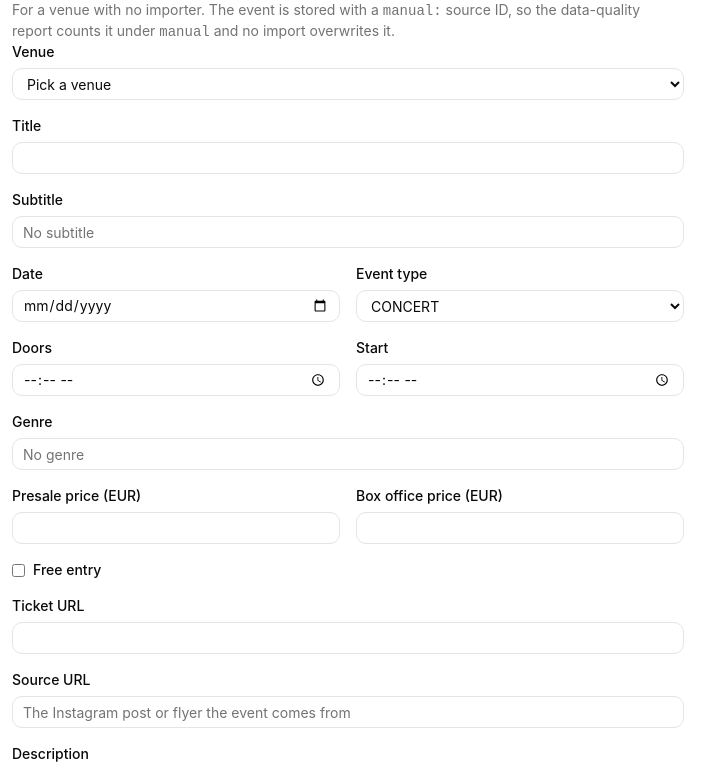
NewEventView › keeps the form when a save fails
This screenshot has width=701, height=768.
Select "Kulturhaus X" in the dropdown labelled "Venue": (348, 84) [12,68,684,100]
In the field labelled "Title": (348, 158) [12,142,684,174], type "Open Decks"
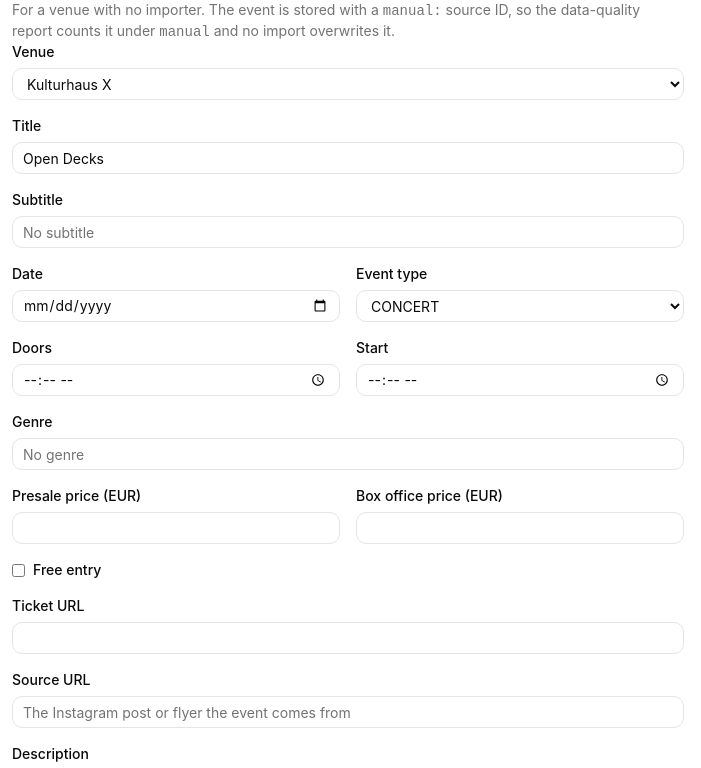
In the date field labelled "Date": (176, 306) [12,290,340,322], type "2026-11-14"
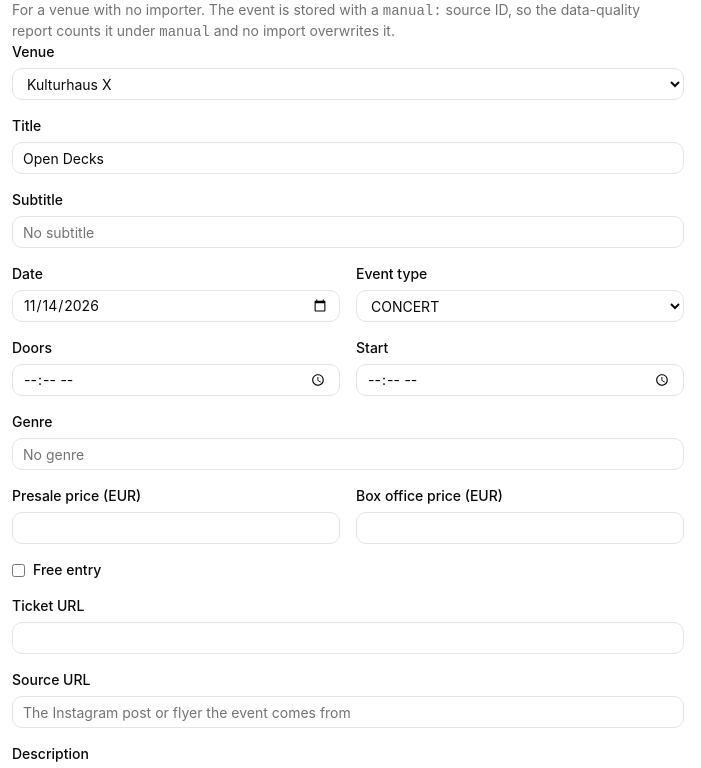
In the time field labelled "Start": (520, 380) [356,364,684,396], type "21:00"
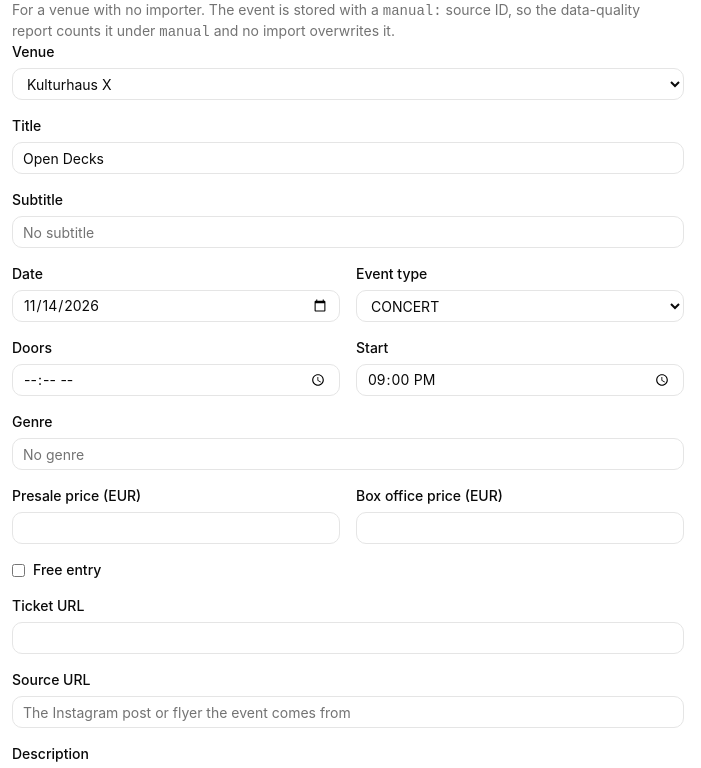
In the field labelled "Genre": (348, 454) [12,438,684,470], type "House"
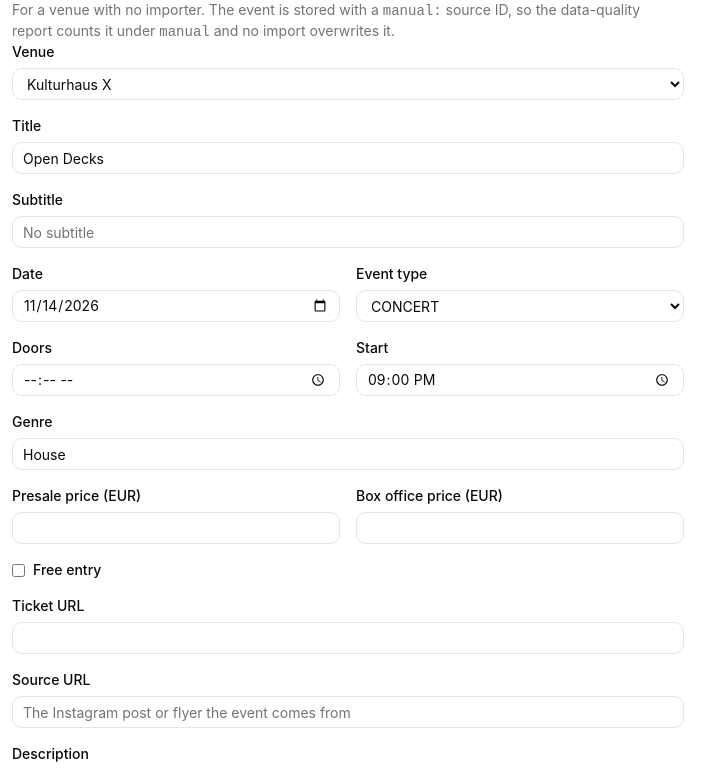
In the field labelled "Presale price (EUR)": (176, 528) [12,512,340,544], type "5"
(page scrolled)
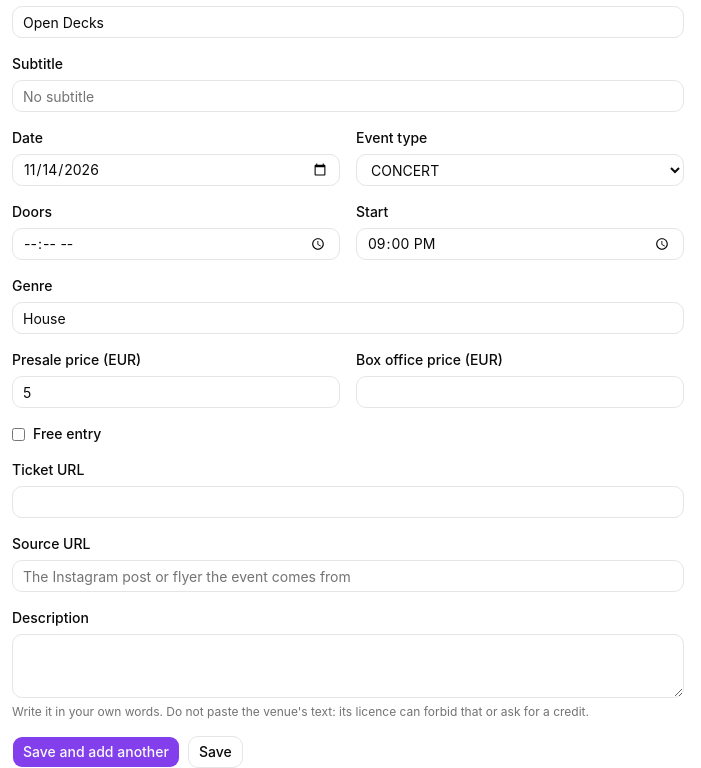
Click the button "Save and add another": (96, 752) [12,736,180,767]
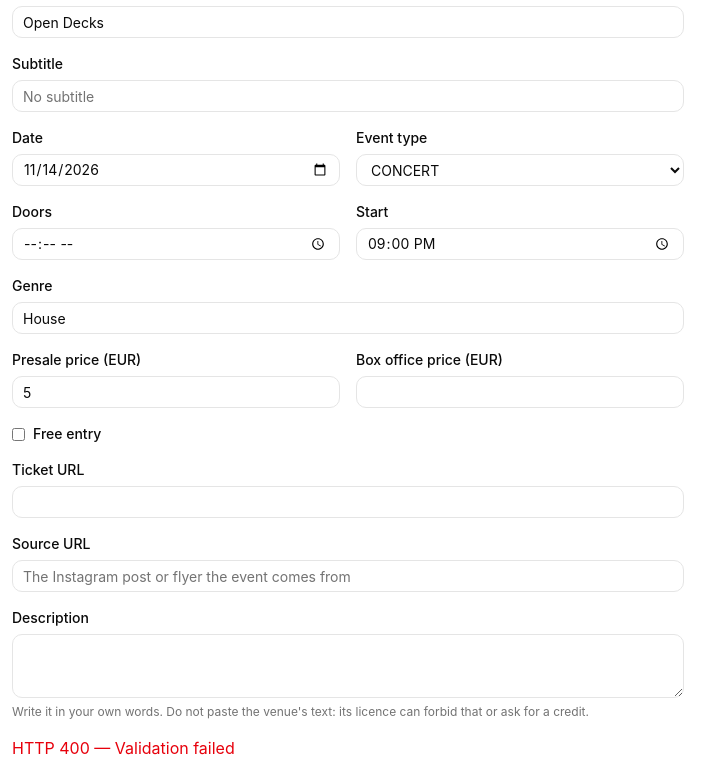
Result: the text "Validation failed" is shown at [12,738,235,758]
